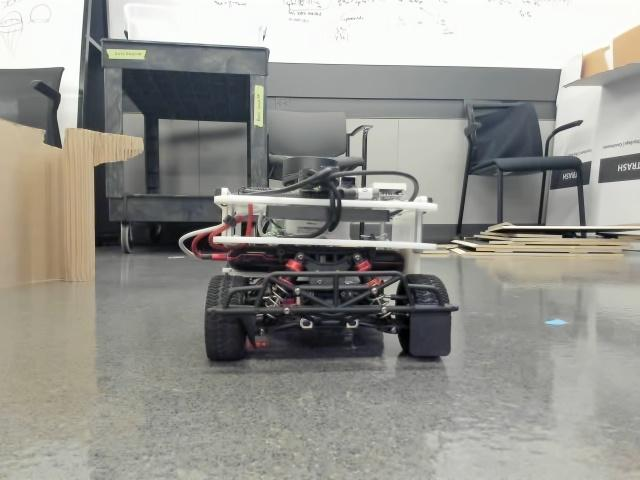Car: (201, 152, 455, 361)
